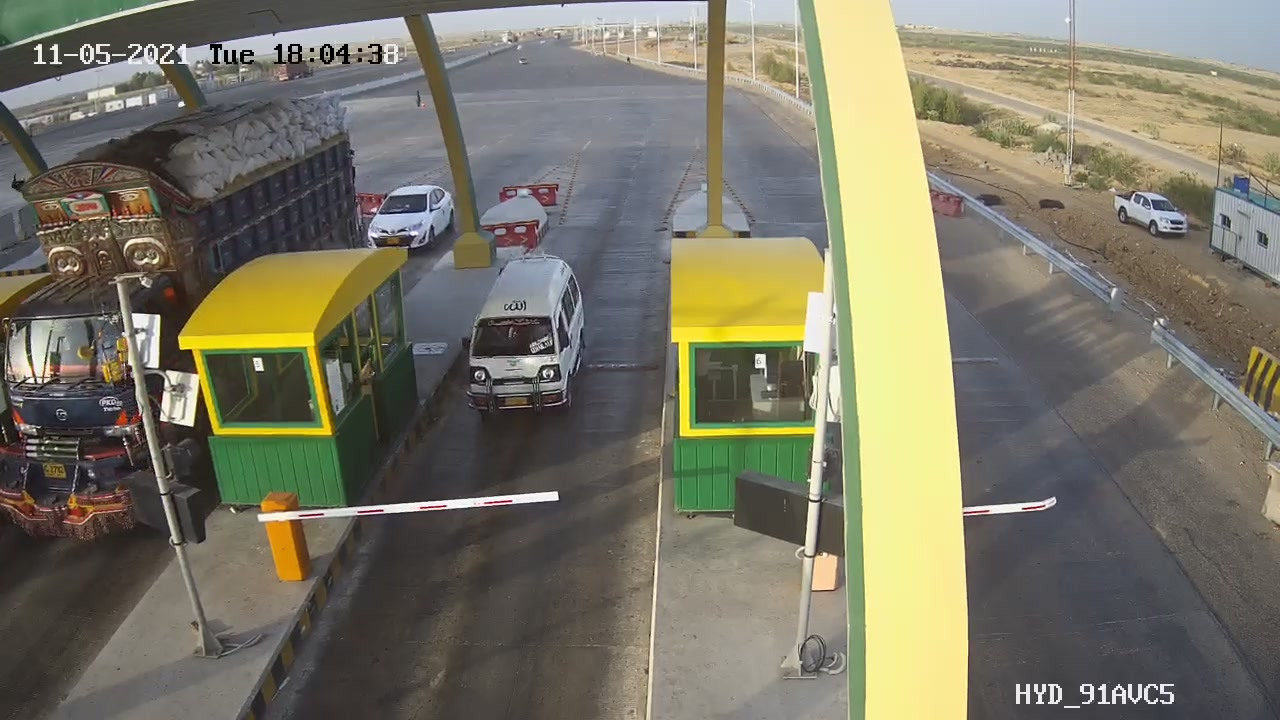F1: (443, 247, 609, 438)
